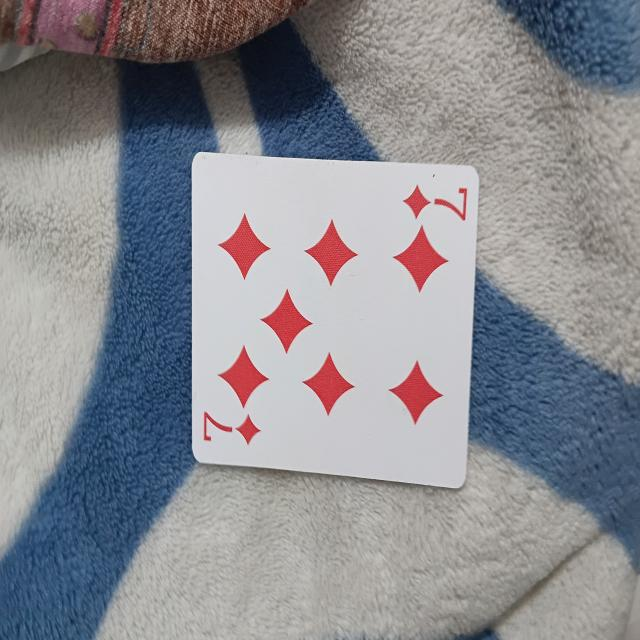7D: (188, 154, 482, 473)
